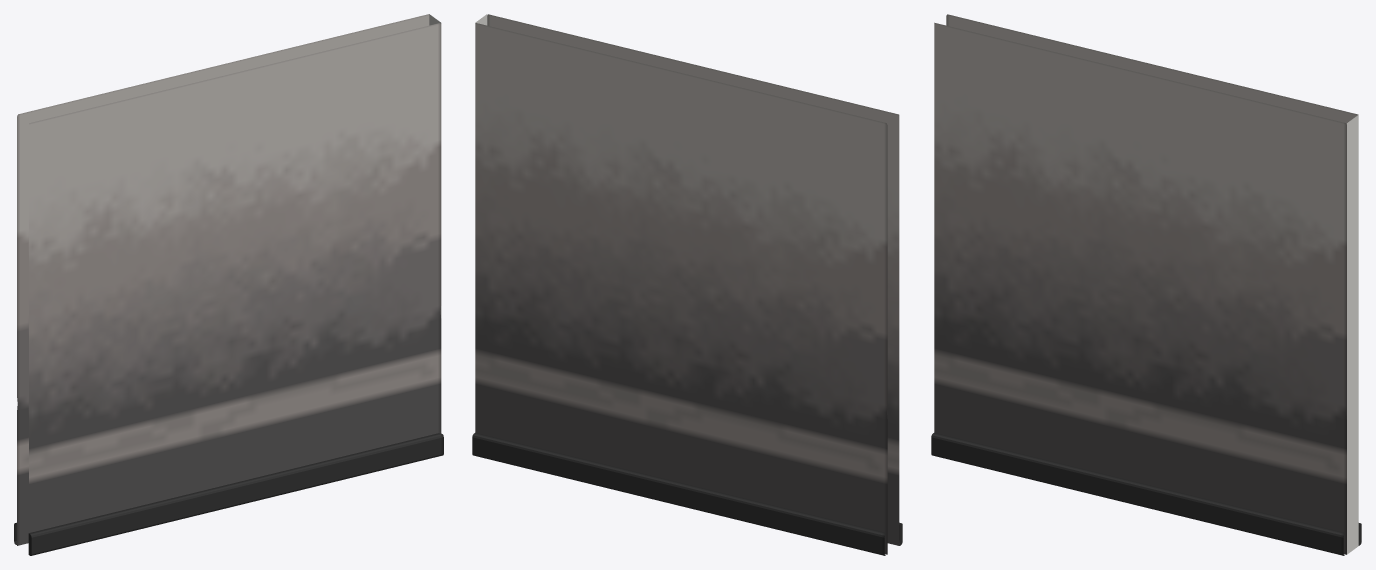
The model's file is Wall_TipoC_4.fbx.
3 views of the same model, side by side, from view 1: azimuth 30°, elevation 25°; view 2: azimuth 150°, elevation 25°; view 3: azimuth 330°, elevation 25° (orthographic).
Parts seen in each view (by area): view 1: Cube.125, Cube.047; view 2: Cube.125, Cube.129; view 3: Cube.125, Cube.047.
Boxes of the visible parts, x1,y1,x2,y2 form: Cube.125: [17, 14, 441, 545]; Cube.047: [28, 433, 443, 555]; Cube.125: [475, 14, 899, 554]; Cube.129: [472, 432, 885, 555]; Cube.125: [934, 14, 1358, 554]; Cube.047: [931, 432, 1344, 555].
Bounding box in the file's own units: 400 × 400 × 29.95.
